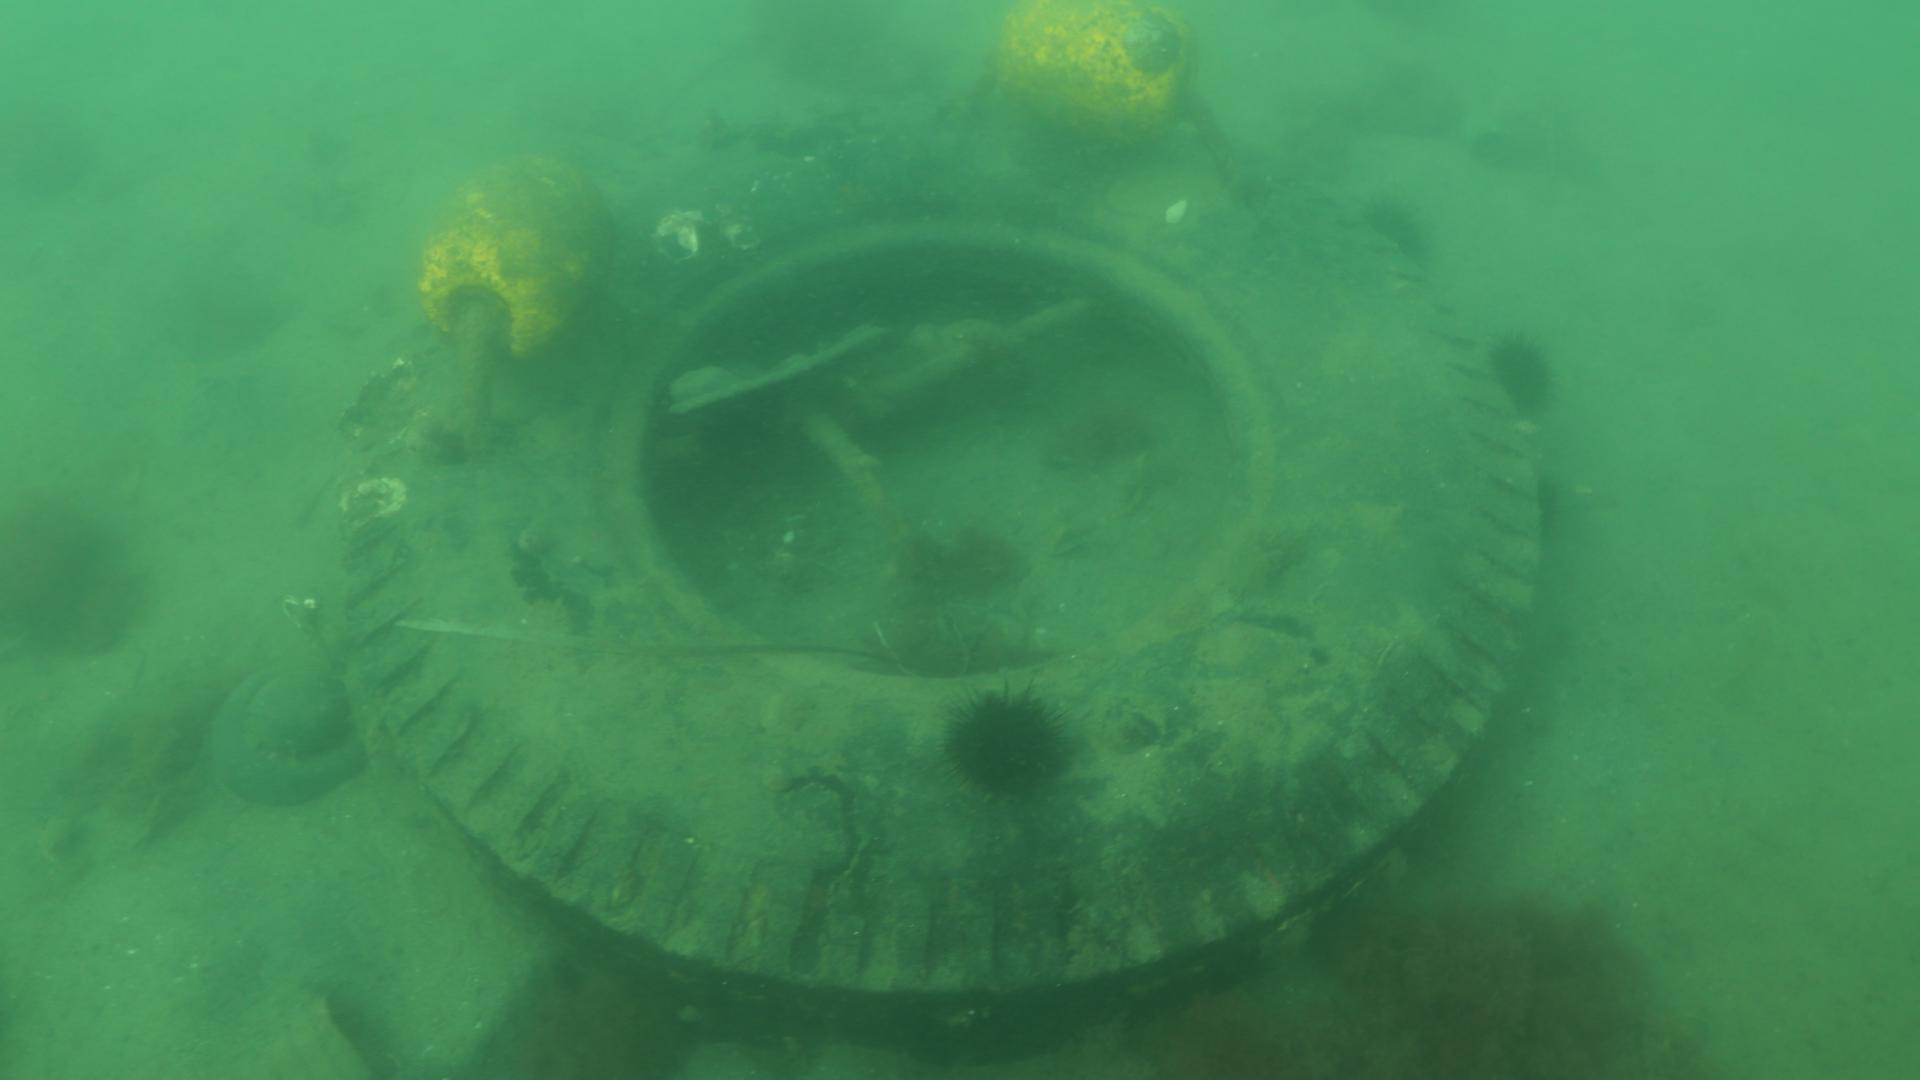tire: (339, 108, 1542, 1054)
